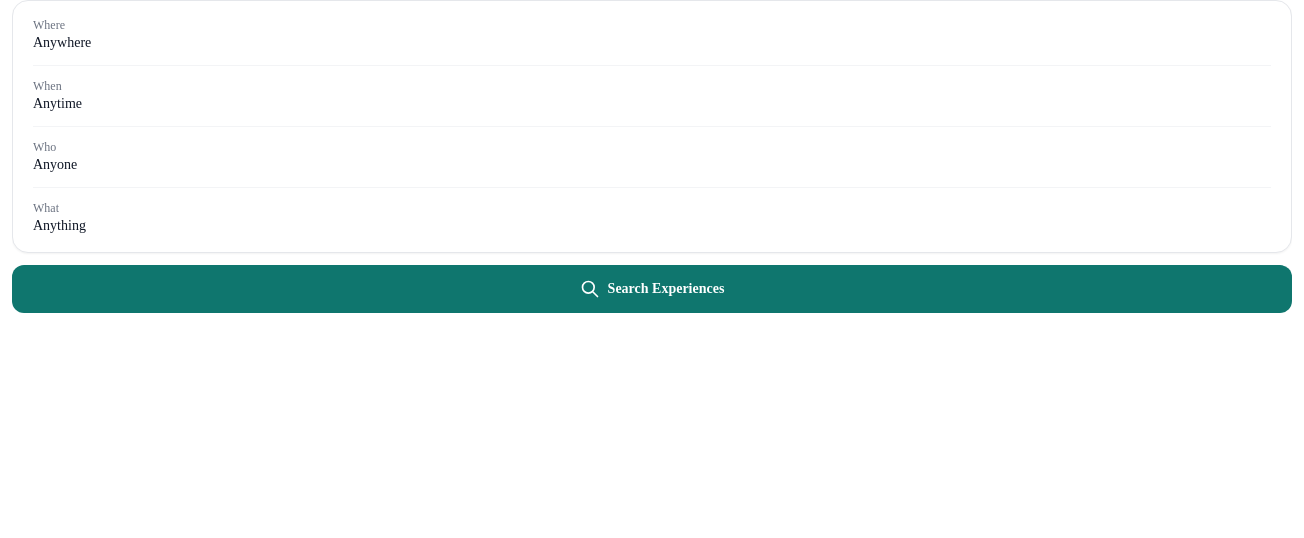
it: ProductDiscoverySearch › dropdown visibility › shows When dropdown with time suggestions
Click the button "When Anytime" at coordinates (58, 104), box [17,66,1287,126]
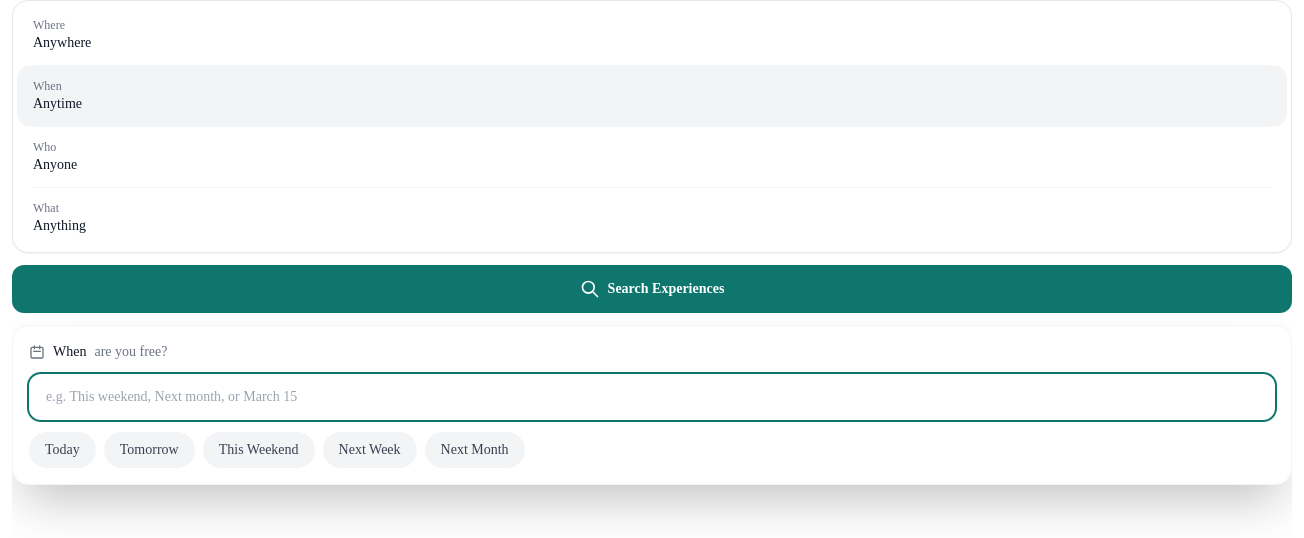
Check: the button "Today" is shown, box [29,432,96,468]
Check: the button "Tomorrow" is shown, box [104,432,195,468]
Check: the button "This Weekend" is shown, box [203,432,315,468]
